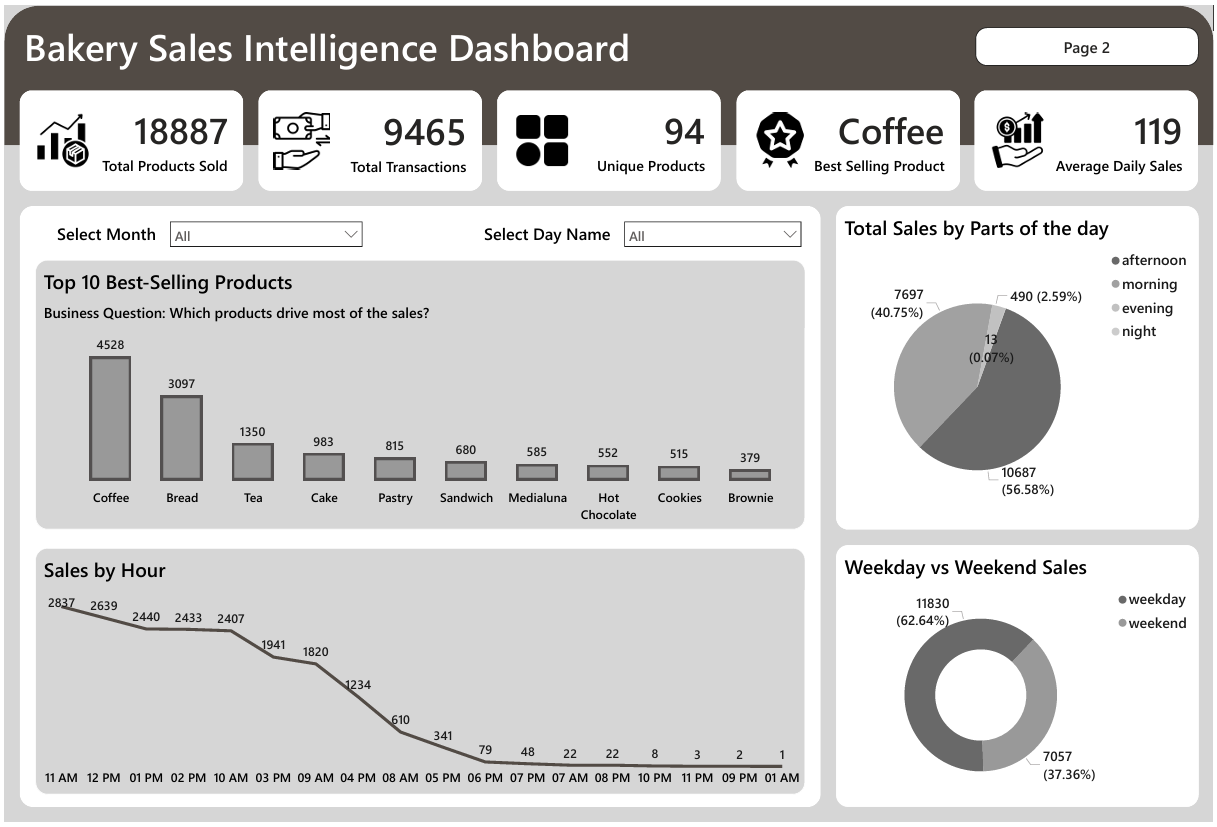

What the dashboard file says about the page in this screenshot:
{"tool":"powerbi","page":{"name":"Page 1","canvas":[1570,1060],"ordinal":0},"visuals":[{"type":"textbox","box":[20,10,940,75],"z":0},{"type":"shape","box":[0,0,1570,180.6],"z":1000},{"type":"cardVisual","fields":{"Data":["bakery_sales.Total Products Sold"]},"box":[20,110,290,130],"z":2000},{"type":"cardVisual","fields":{"Data":["bakery_sales.Total Transactions"]},"box":[330,110,290,130],"z":3000},{"type":"cardVisual","fields":{"Data":["bakery_sales.Unique Products"]},"box":[640.3,110,290,130],"z":4000},{"type":"cardVisual","fields":{"Data":["bakery_sales.Average Daily Sales"]},"box":[1260,110,290,130],"z":5000},{"type":"cardVisual","fields":{"Data":["bakery_sales.Best Selling Product"]},"box":[950.7,110,290,130],"z":6000},{"type":"textbox","box":[19.4,14.9,800,76.1],"z":7000},{"type":"shape","box":[20,260,1040,780],"z":8000},{"type":"columnChart","title":"Top 10 Best-Selling Products","fields":{"Category":["bakery_sales.Item"],"Y":["bakery_sales.TotalSales"]},"box":[40,330,1000,350],"z":9000},{"type":"lineChart","title":"Sales by Hour","fields":{"Category":["bakery_sales.Hour Label"],"Y":["bakery_sales.TotalSales"]},"box":[40,703.6,1000,320],"z":10000},{"type":"pieChart","title":"Total Sales by Parts of the day","fields":{"Y":["bakery_sales.TotalSales"],"Category":["bakery_sales.period_day"]},"box":[1080,260,470.9,420],"z":11000},{"type":"donutChart","title":"Weekday vs Weekend Sales","fields":{"Category":["bakery_sales.weekday_weekend"],"Y":["bakery_sales.TotalSales"]},"box":[1080,700,470.9,340],"z":12000},{"type":"pageNavigator","box":[1261.1,27.8,290,50],"z":13000},{"type":"slicer","fields":{"Values":["bakery_sales.Date.Variation.Date Hierarchy.Month"]},"box":[205,270,270,52],"z":14000},{"type":"textbox","box":[50,276,165,40],"z":15000},{"type":"slicer","fields":{"Values":["bakery_sales.Day_Name"]},"box":[795,270,250,52],"z":16000},{"type":"textbox","box":[610,276,190,40],"z":17000}]}

Visuals, with their boxes in screenshot pixels (x1, y1, x2, y2), scaled from the page's 1570x1060 canvas onto the 1217x827 screenshot:
textbox: (left=16, top=8, right=744, bottom=66)
shape: (left=0, top=0, right=1216, bottom=141)
cardVisual - bakery_sales.Total Products Sold: (left=16, top=86, right=240, bottom=187)
cardVisual - bakery_sales.Total Transactions: (left=256, top=86, right=481, bottom=187)
cardVisual - bakery_sales.Unique Products: (left=496, top=86, right=721, bottom=187)
cardVisual - bakery_sales.Average Daily Sales: (left=977, top=86, right=1201, bottom=187)
cardVisual - bakery_sales.Best Selling Product: (left=737, top=86, right=962, bottom=187)
textbox: (left=15, top=12, right=635, bottom=71)
shape: (left=16, top=203, right=822, bottom=811)
"Top 10 Best-Selling Products" columnChart: (left=31, top=257, right=806, bottom=531)
"Sales by Hour" lineChart: (left=31, top=549, right=806, bottom=799)
"Total Sales by Parts of the day" pieChart: (left=837, top=203, right=1202, bottom=531)
"Weekday vs Weekend Sales" donutChart: (left=837, top=546, right=1202, bottom=811)
pageNavigator: (left=978, top=22, right=1202, bottom=61)
slicer - bakery_sales.Date.Variation.Date Hierarchy.Month: (left=159, top=211, right=368, bottom=251)
textbox: (left=39, top=215, right=167, bottom=247)
slicer - bakery_sales.Day_Name: (left=616, top=211, right=810, bottom=251)
textbox: (left=473, top=215, right=620, bottom=247)
